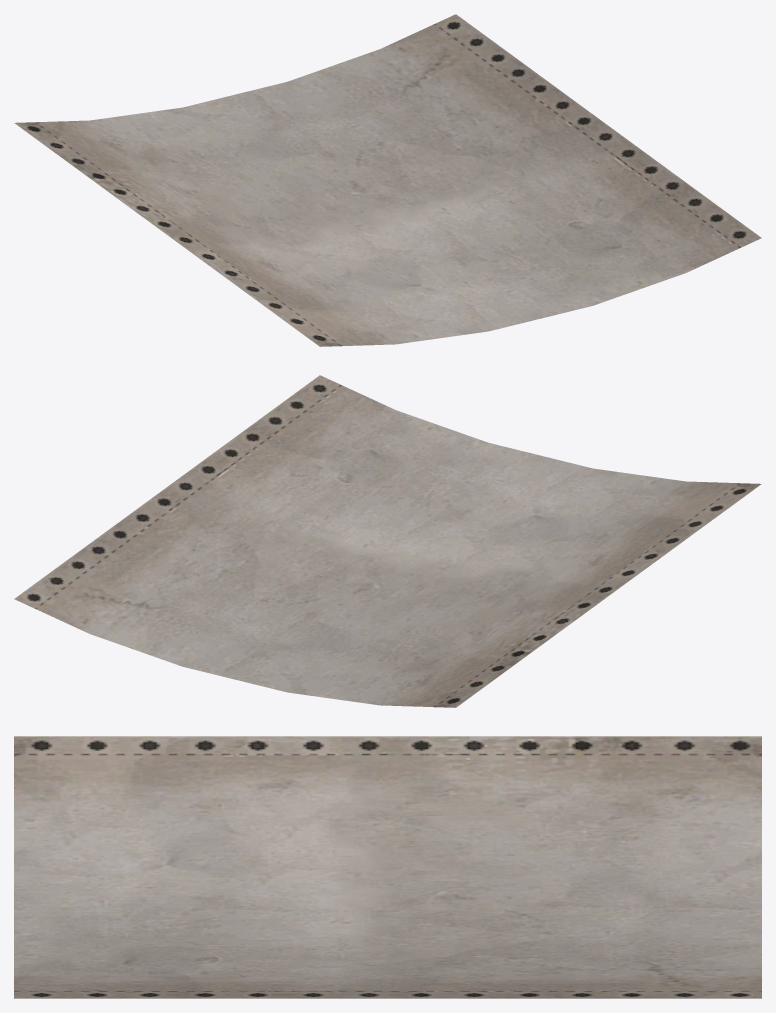
Rendered from papers_printed_plain.dae.
3 views of the same model, one above another, from view 1: azimuth 30°, elevation 25°; view 2: azimuth 150°, elevation 25°; view 3: azimuth 270°, elevation 25° (orthographic). The views are drawn at different scales.
Visible parts, largest first — view 1: plain; view 2: plain; view 3: plain.
Part boxes in pixels (box(x1,y1,x2,y2)): plain: box(14, 14, 761, 346); plain: box(14, 375, 761, 707); plain: box(14, 736, 761, 998).
Size of the model in its own units: 0.2085 by 0.012 by 0.25.
